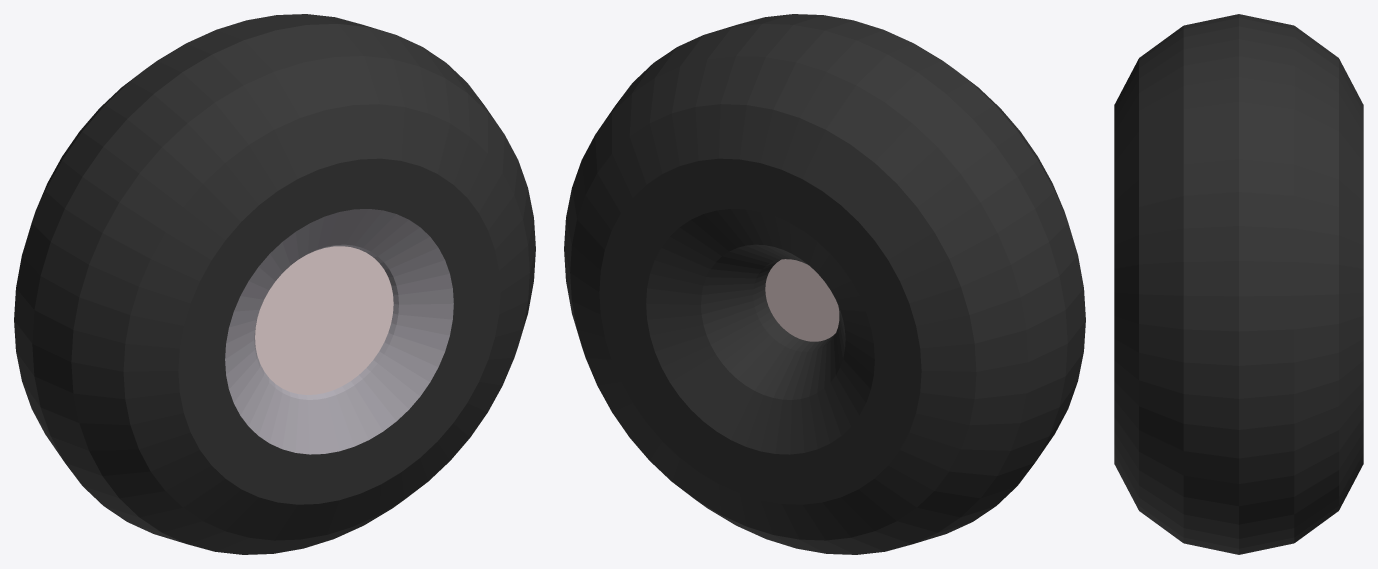
File: Clowncar_wheel.glb
The picture shows the model from 3 angles, left to right: view 1: azimuth 30°, elevation 25°; view 2: azimuth 150°, elevation 25°; view 3: azimuth 270°, elevation 25°; orthographic projection. The views are drawn at different scales.
Visible parts, largest first — view 1: Wheel.002; view 2: Wheel.002; view 3: Wheel.002.
Boxes of the visible parts, bbox=[...] form: Wheel.002: bbox=[14, 14, 535, 554]; Wheel.002: bbox=[564, 14, 1085, 554]; Wheel.002: bbox=[1114, 14, 1363, 554].
Bounding box in the file's own units: 0.7251 × 0.7251 × 0.3337.
